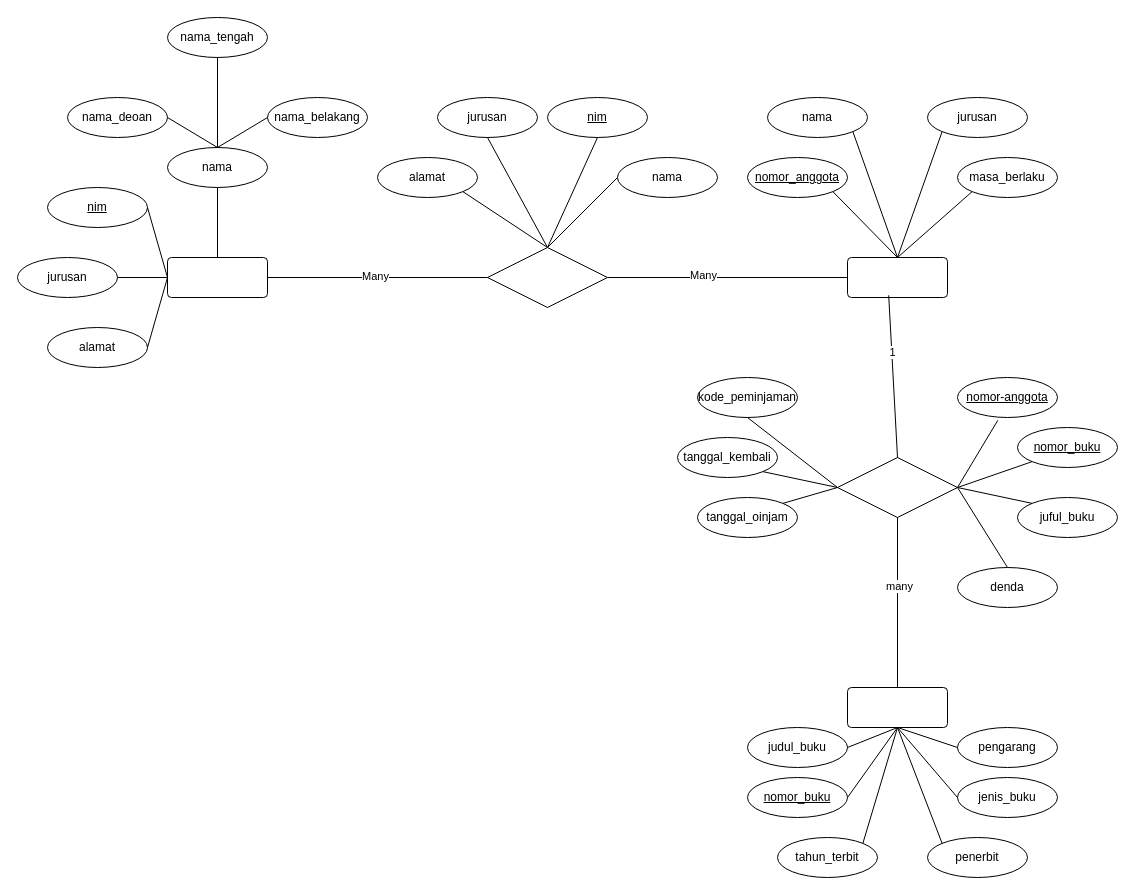
Image size: 1135x895. Some labels were removed from this diagram. The centre of each missing label's shape, as x and y in pixels:
"anggota perpustakaan" goes at pixel 897 277.
"buku" goes at pixel 897 707.
"mahasiswa" goes at pixel 217 277.
"meminjam" goes at pixel 897 487.
"mendaftar" goes at pixel 547 277.
